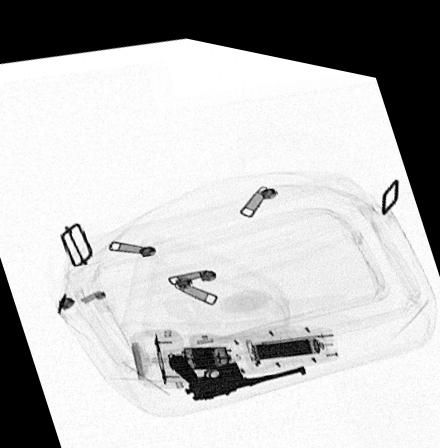Gun: (166, 346, 307, 392)
